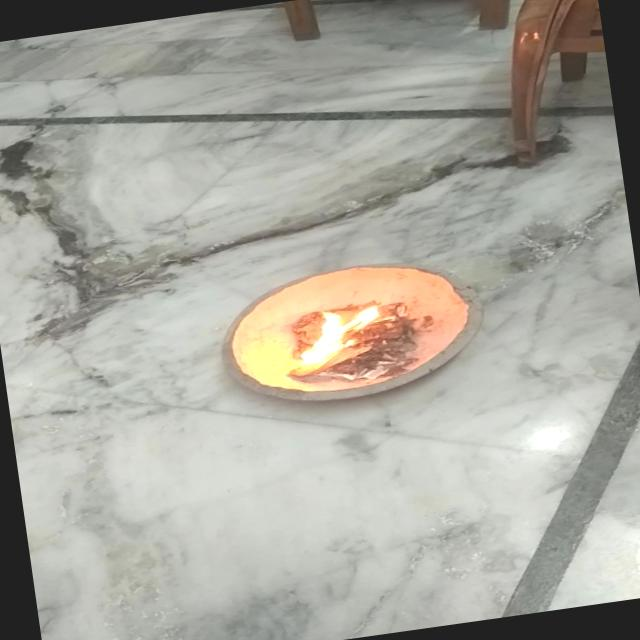fire: (272, 302, 381, 387)
